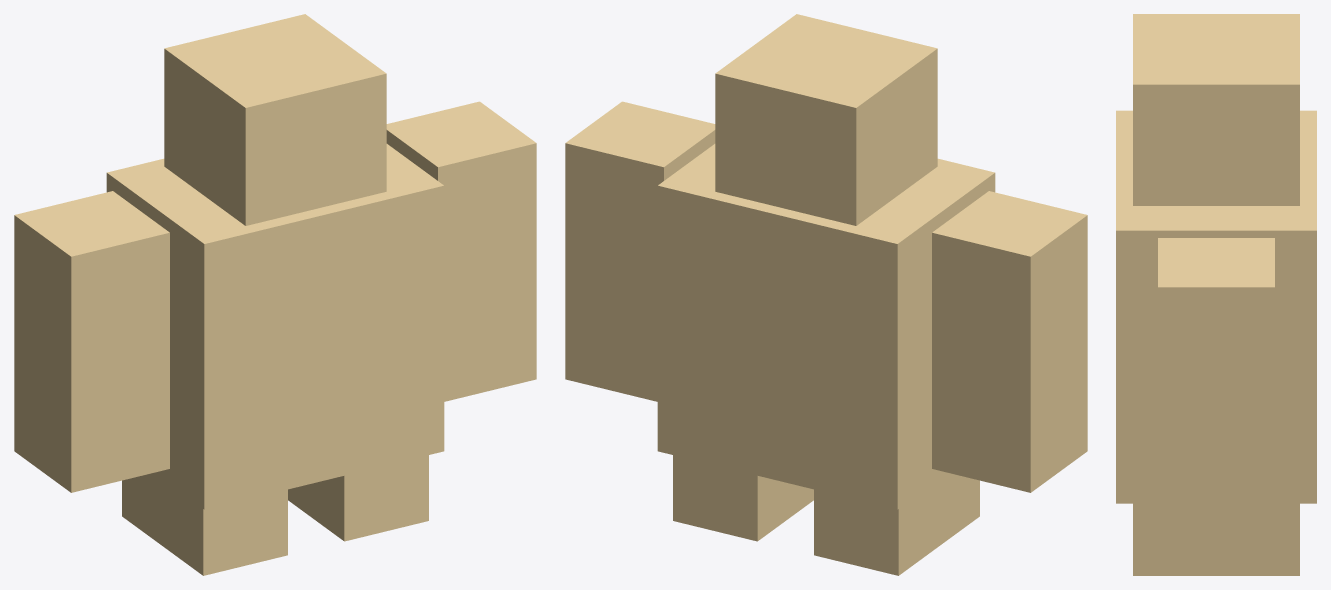
File: heavy.gltf
3 renders of one model, left to right at view 1: azimuth 30°, elevation 25°; view 2: azimuth 150°, elevation 25°; view 3: azimuth 270°, elevation 25°, orthographic. The views are drawn at different scales.
Parts seen in each view (by area): view 1: heavy; view 2: heavy; view 3: heavy.
Part boxes in pixels (<box>): heavy: <box>14,14,536,575</box>; heavy: <box>565,14,1087,575</box>; heavy: <box>1116,14,1316,575</box>.
Bounding box in the file's own units: 1.65 × 1.55 × 0.6.
